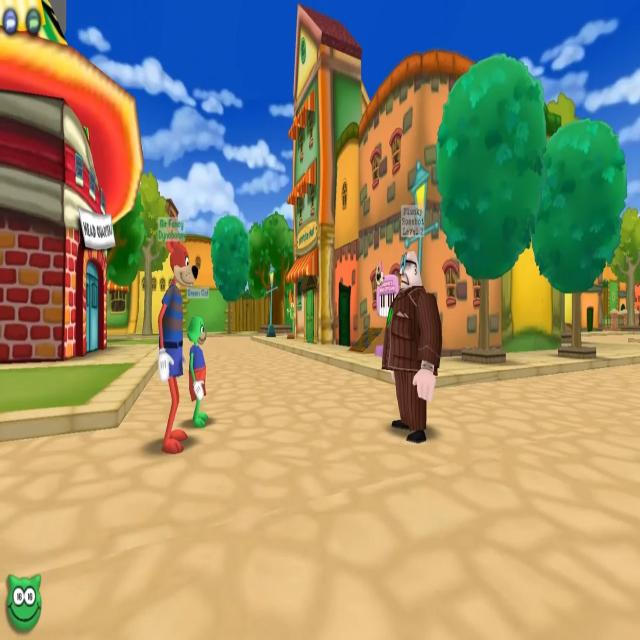flunky: (361, 200, 444, 448)
